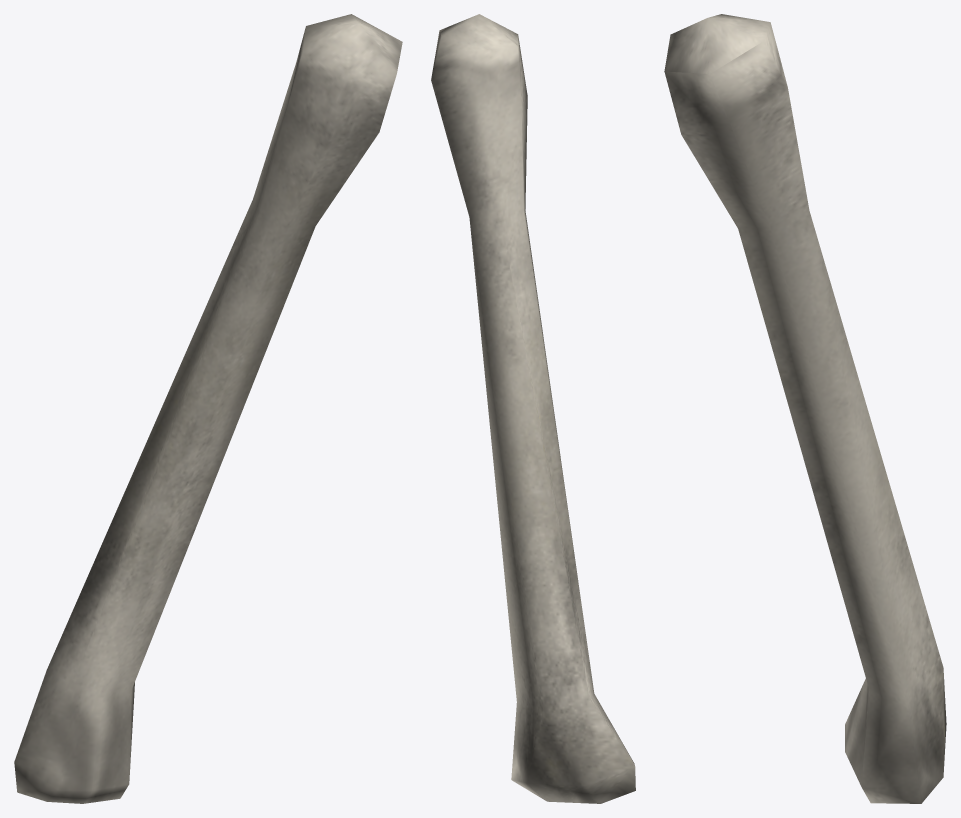
File: brazoDer.obj
The picture shows the model from 3 angles, left to right: view 1: azimuth 30°, elevation 25°; view 2: azimuth 150°, elevation 25°; view 3: azimuth 270°, elevation 25°; orthographic projection. The views are drawn at different scales.
Visible parts, largest first — view 1: brazoDer; view 2: brazoDer; view 3: brazoDer.
Part boxes in pixels (x1,y1,x2,y2): brazoDer: (14, 14, 402, 803); brazoDer: (431, 14, 635, 803); brazoDer: (664, 14, 946, 803).
Size of the model in its own units: 0.1424 by 0.3501 by 0.1023.
1 material, 1 textured.
